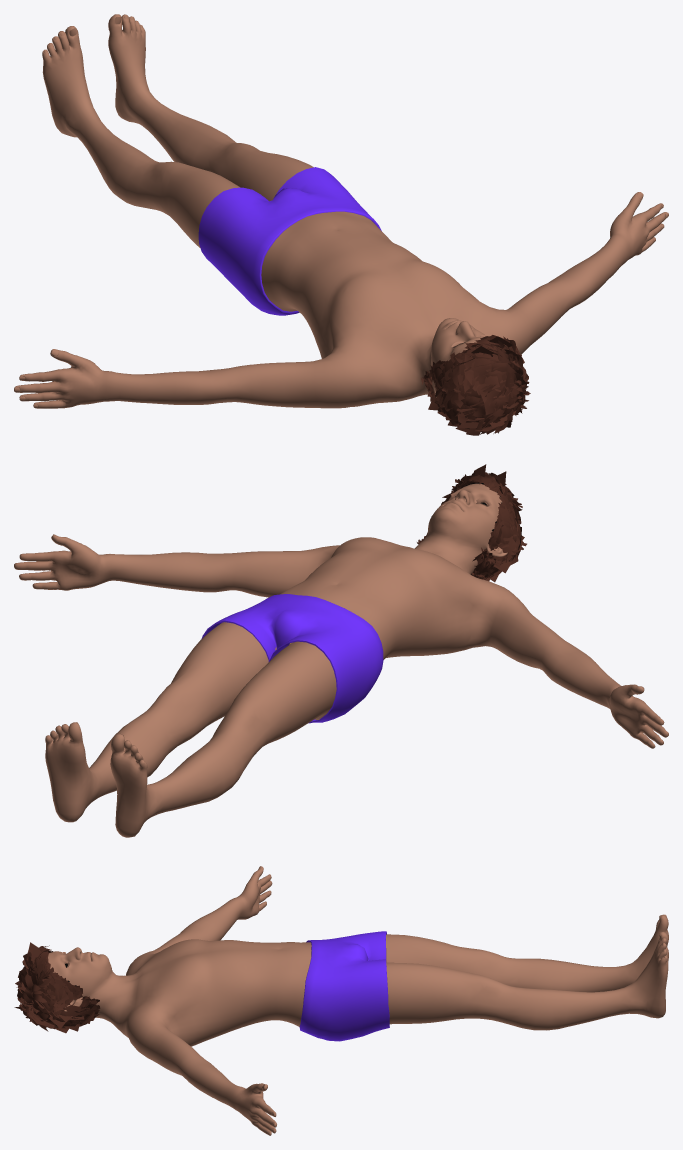
Rendered from hombreEscena.glb.
3 views of the same model, one above another, from view 1: azimuth 30°, elevation 25°; view 2: azimuth 150°, elevation 25°; view 3: azimuth 270°, elevation 25° (orthographic). The views are drawn at different scales.
Visible parts, largest first — view 1: obj file; view 2: obj file; view 3: obj file.
Boxes of the visible parts, x1=… form: obj file: x1=14, y1=14, x2=668, y2=435; obj file: x1=14, y1=464, x2=668, y2=837; obj file: x1=14, y1=866, x2=668, y2=1135.
Bounding box in the file's own units: 4.16 × 0.839 × 4.54.
